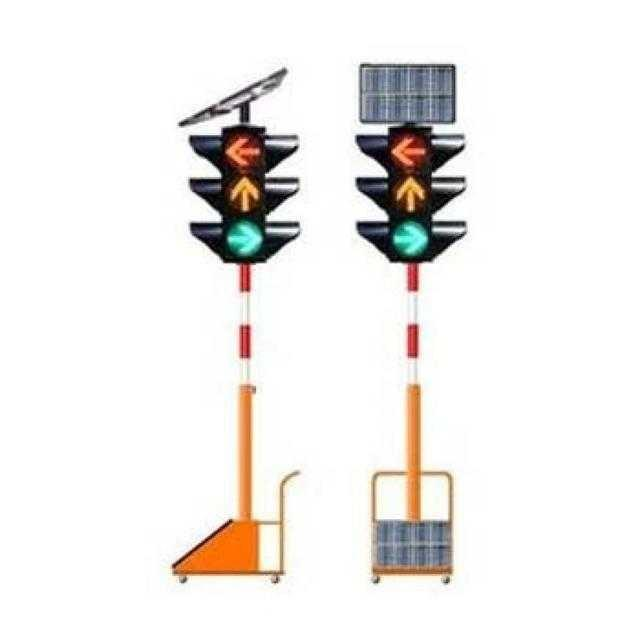green: (225, 219, 266, 259), (393, 218, 429, 261)
red: (222, 128, 265, 169), (392, 131, 430, 175)
